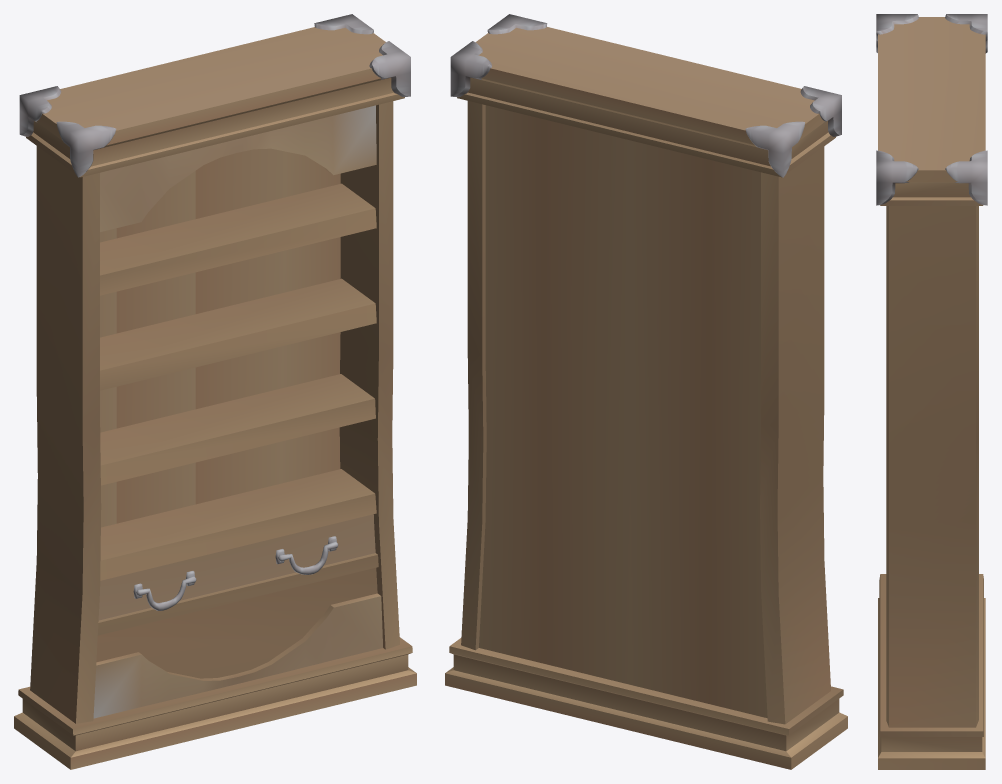
Rendered from Bookcase_2.glb.
3 renders of one model, left to right at view 1: azimuth 30°, elevation 25°; view 2: azimuth 150°, elevation 25°; view 3: azimuth 270°, elevation 25°, orthographic. The views are drawn at different scales.
Parts seen in each view (by area): view 1: Bookcase_2_db23ca, Bookcase_2_d7e961; view 2: Bookcase_2_db23ca, Bookcase_2_d7e961; view 3: Bookcase_2_db23ca, Bookcase_2_d7e961.
Boxes of the visible parts, x1,y1,x2,y2 form: Bookcase_2_db23ca: (14, 27, 416, 769); Bookcase_2_d7e961: (19, 14, 410, 610); Bookcase_2_db23ca: (445, 27, 847, 769); Bookcase_2_d7e961: (450, 14, 841, 177); Bookcase_2_db23ca: (878, 17, 985, 769); Bookcase_2_d7e961: (876, 14, 987, 205).
Bounding box in the file's own units: 1.46 × 2.54 × 0.429.
